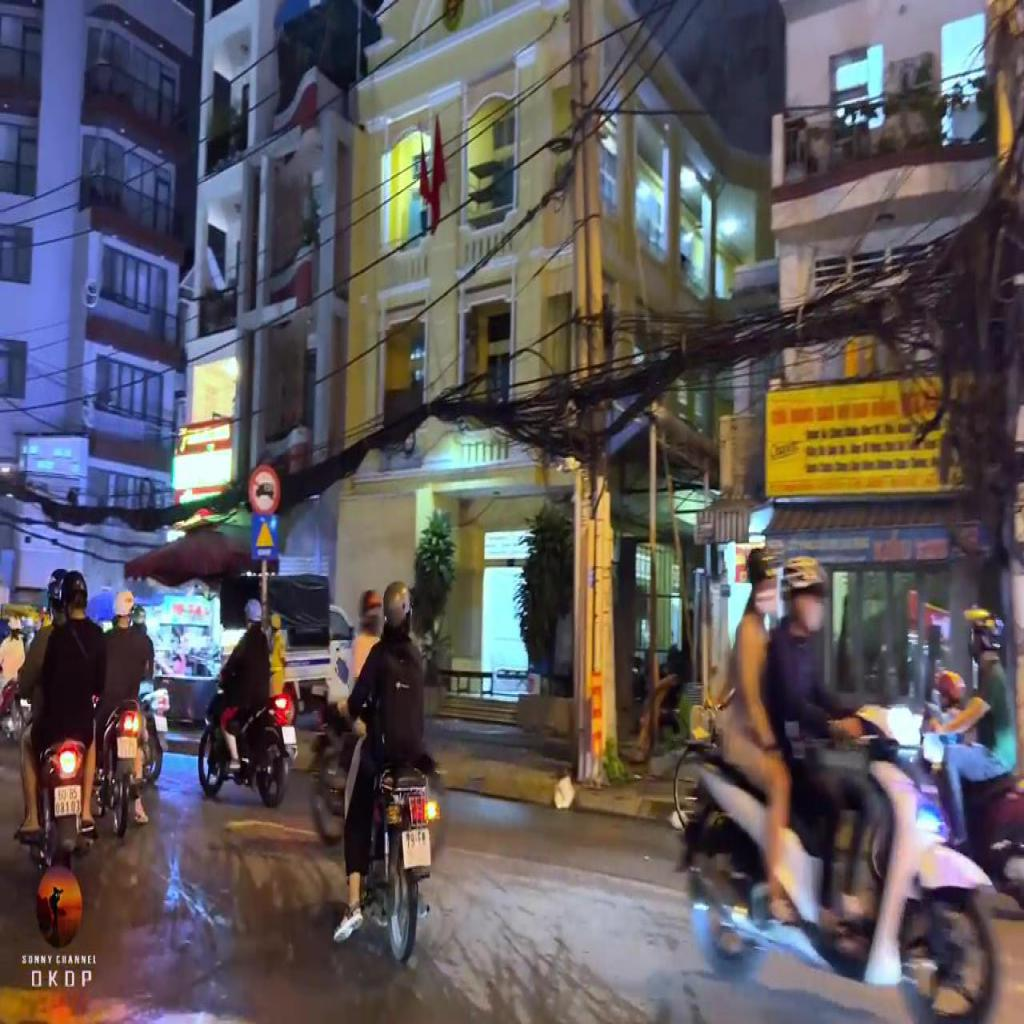cam_o_to_tai_trong_luong_qua_2-5t: (247, 462, 281, 516)
cho: (250, 515, 280, 563)
